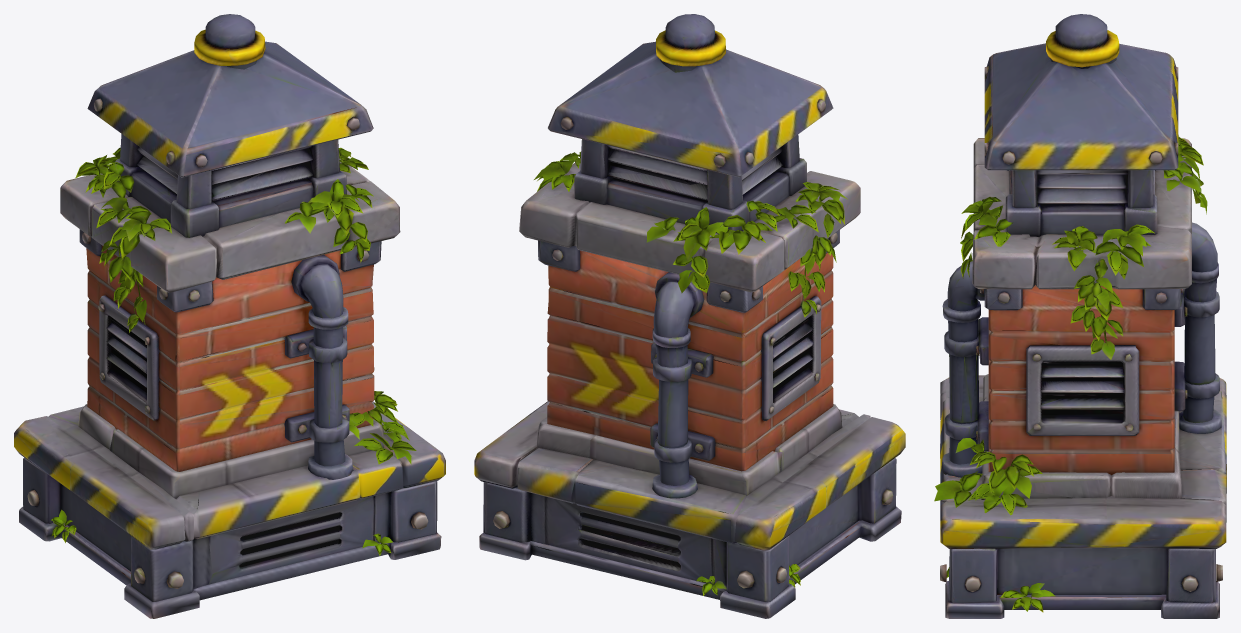
The model's file is brick_vent_tower.glb.
The picture shows the model from 3 angles, left to right: view 1: azimuth 30°, elevation 25°; view 2: azimuth 150°, elevation 25°; view 3: azimuth 270°, elevation 25°; orthographic projection. The views are drawn at different scales.
Visible parts, largest first — view 1: geometry_0; view 2: geometry_0; view 3: geometry_0.
Part boxes in pixels (left/top/right/bottom): geometry_0: left=14, top=14, right=445, bottom=618; geometry_0: left=474, top=14, right=905, bottom=618; geometry_0: left=934, top=14, right=1226, bottom=618.
Size of what is drawn, in the model's own units: 0.5991 by 1 by 0.502.
Materials: 1 (1 with a texture image).
